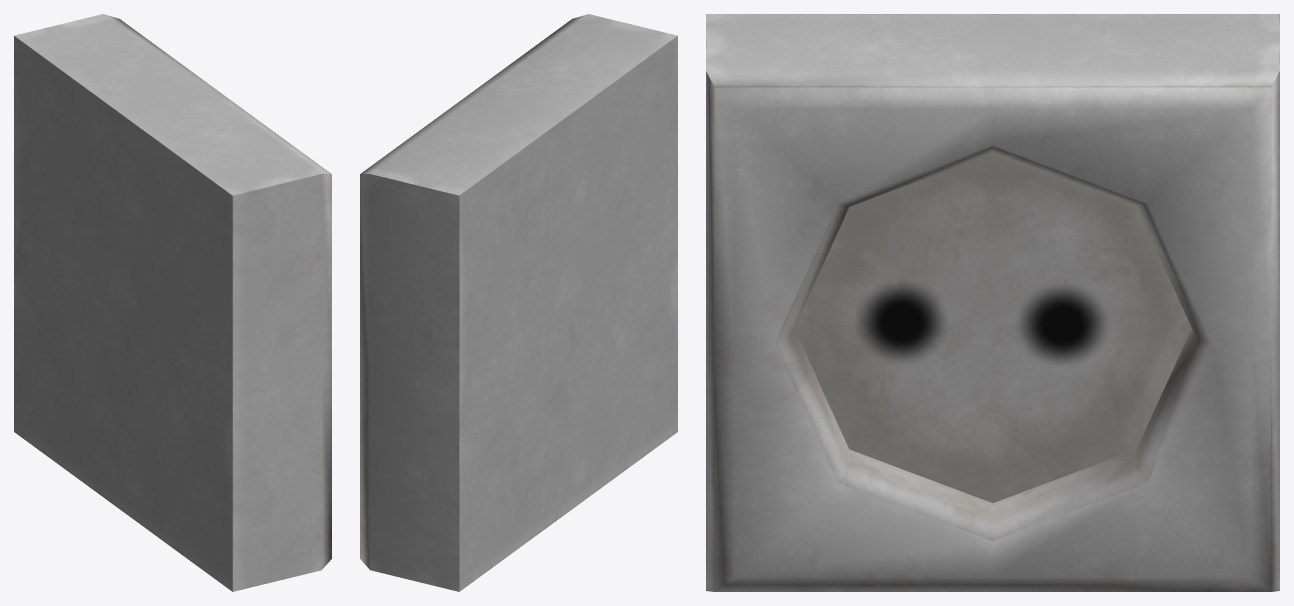
Rendered from Plug.fbx.
3 renders of one model, left to right at view 1: azimuth 30°, elevation 25°; view 2: azimuth 150°, elevation 25°; view 3: azimuth 270°, elevation 25°, orthographic. The views are drawn at different scales.
Visible parts, largest first — view 1: Plane; view 2: Plane; view 3: Plane.
Boxes of the visible parts, left/top/right/bottom form: Plane: left=14, top=14, right=331, bottom=591; Plane: left=360, top=14, right=677, bottom=591; Plane: left=706, top=14, right=1279, bottom=591.
Bounding box in the file's own units: 5.7 × 20 × 20.
